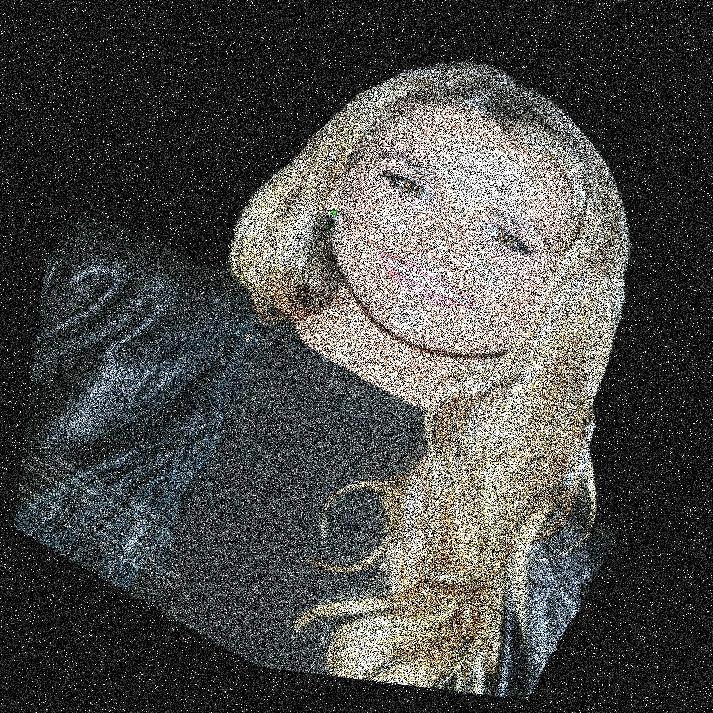Pessoa: (160, 0, 599, 712)
